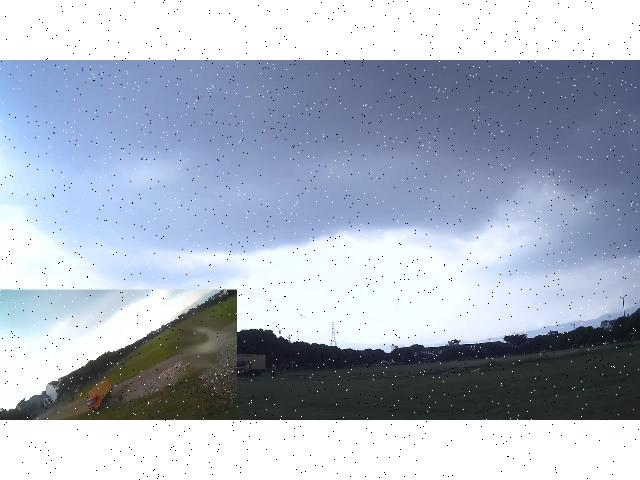Anti-Drone: (293, 304, 311, 322)
